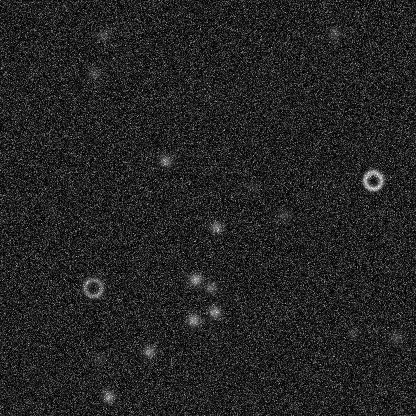Ring: (81, 275, 105, 299), (361, 168, 385, 192)
Spot: (206, 303, 222, 319), (344, 326, 360, 342), (100, 388, 116, 404), (326, 25, 342, 41), (92, 350, 108, 366), (185, 311, 201, 327), (187, 271, 203, 287), (207, 219, 223, 235), (388, 329, 404, 345), (86, 65, 102, 81), (202, 279, 218, 295), (276, 207, 292, 223), (95, 27, 111, 43), (141, 343, 157, 359), (157, 152, 173, 168), (244, 178, 260, 194)
